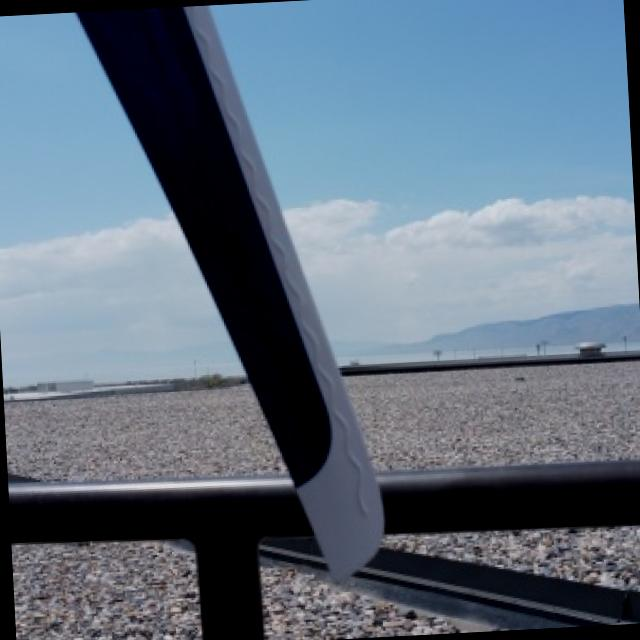healthy: (0, 219, 203, 375)
